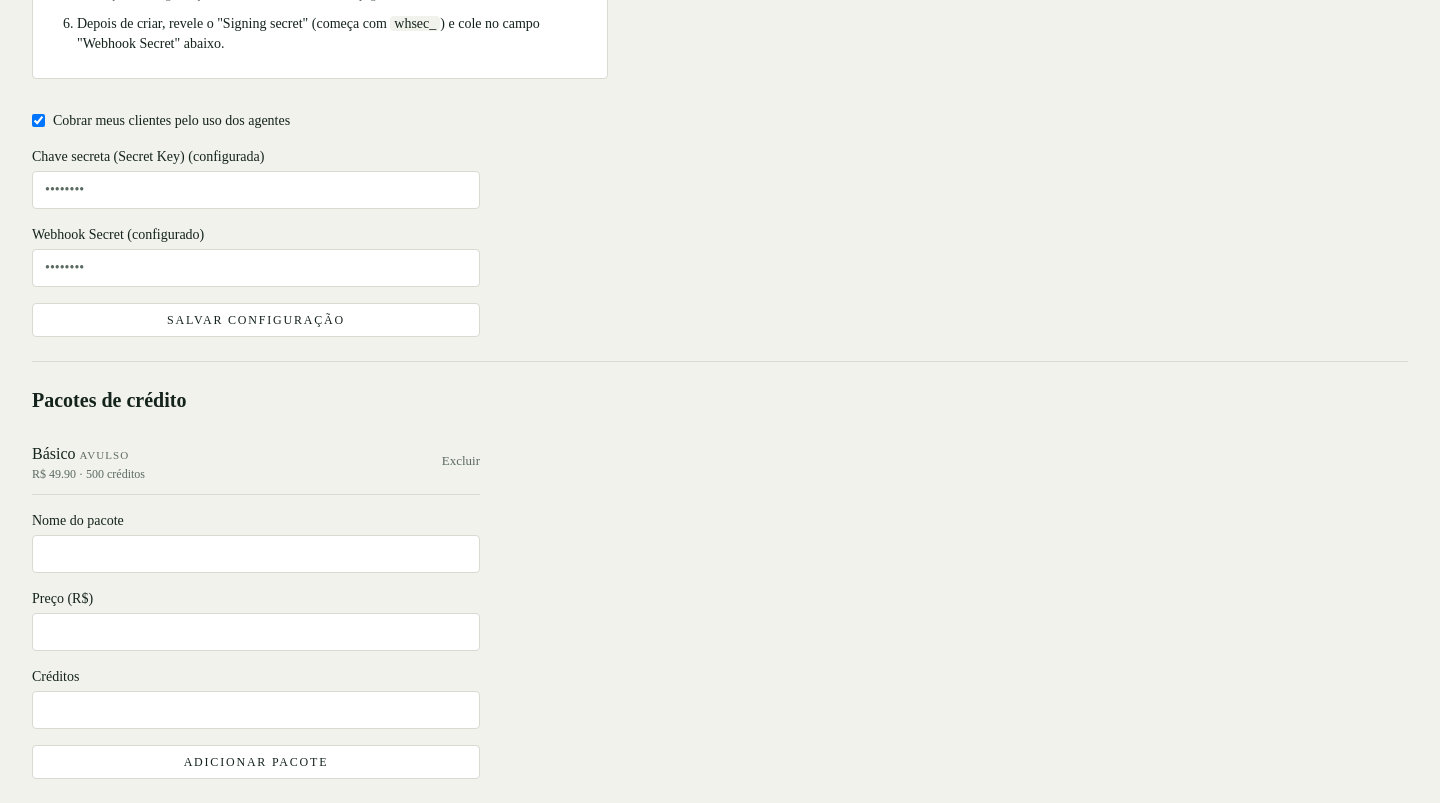
EndCustomerBillingPanel › exclui um pacote após confirmação
(page scrolled)
Expected: the text "Básico" is shown, [32, 444, 76, 462]
Click the button "Excluir": (461, 461) [442, 453, 480, 470]
(page scrolled)
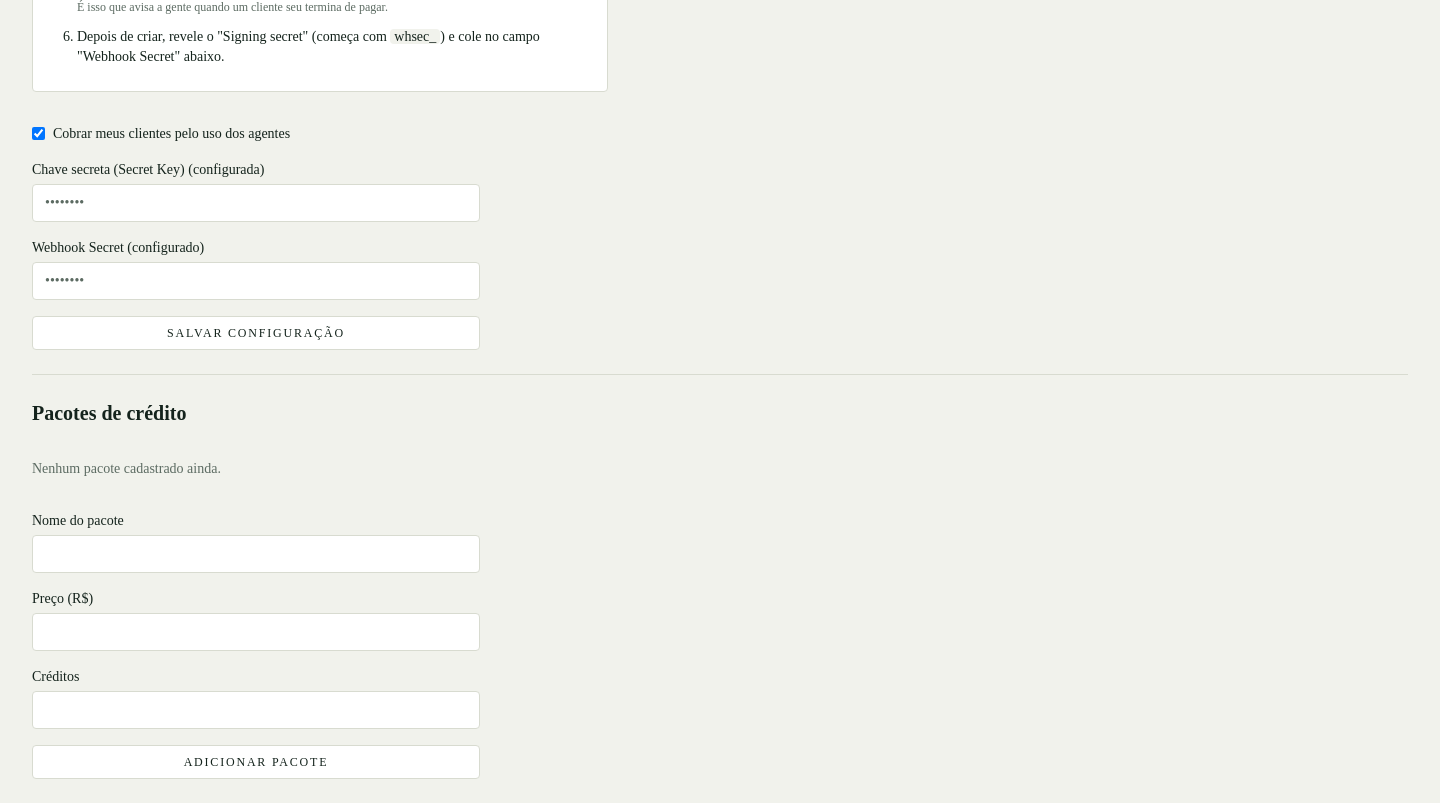
Expected: the text "Básico" is gone
